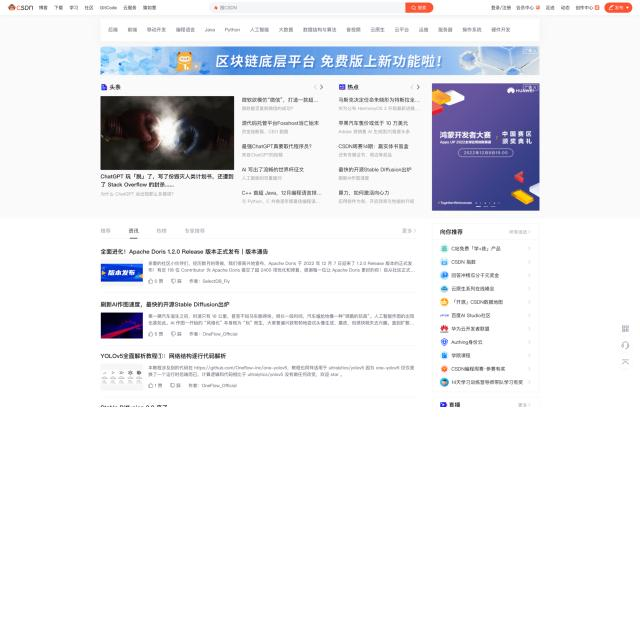input: (209, 2, 435, 14)
logo: (6, 3, 35, 12)
navigation: (100, 18, 540, 42), (37, 3, 160, 12), (490, 3, 600, 12)
